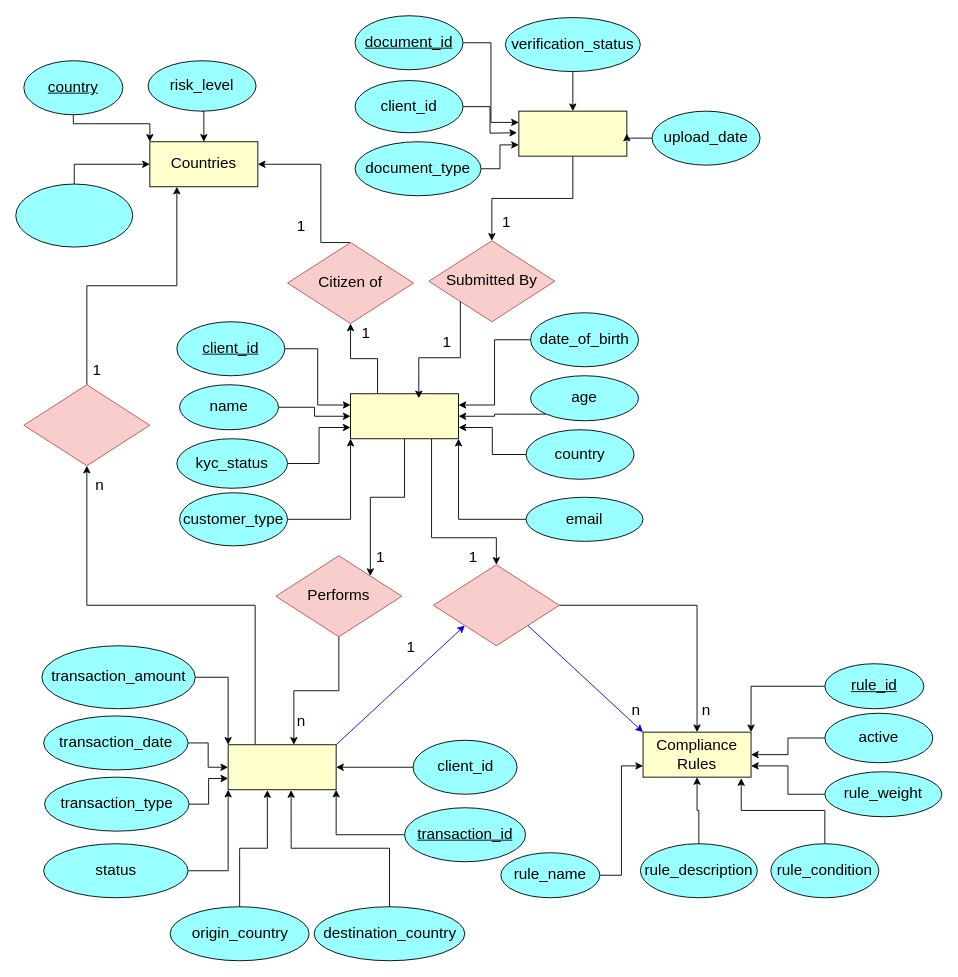
Some shapes in this 958 by 977 pixel diagram are drawn without their labels. The centre of each missing label's shape, as x and y in pixels:
AML Compliance Score: the point at 74,215
Clients: the point at 404,416
Documents: the point at 572,133
Followed By: the point at 495,605
Origin and Destination: the point at 86,425
Transactions: the point at 281,767
